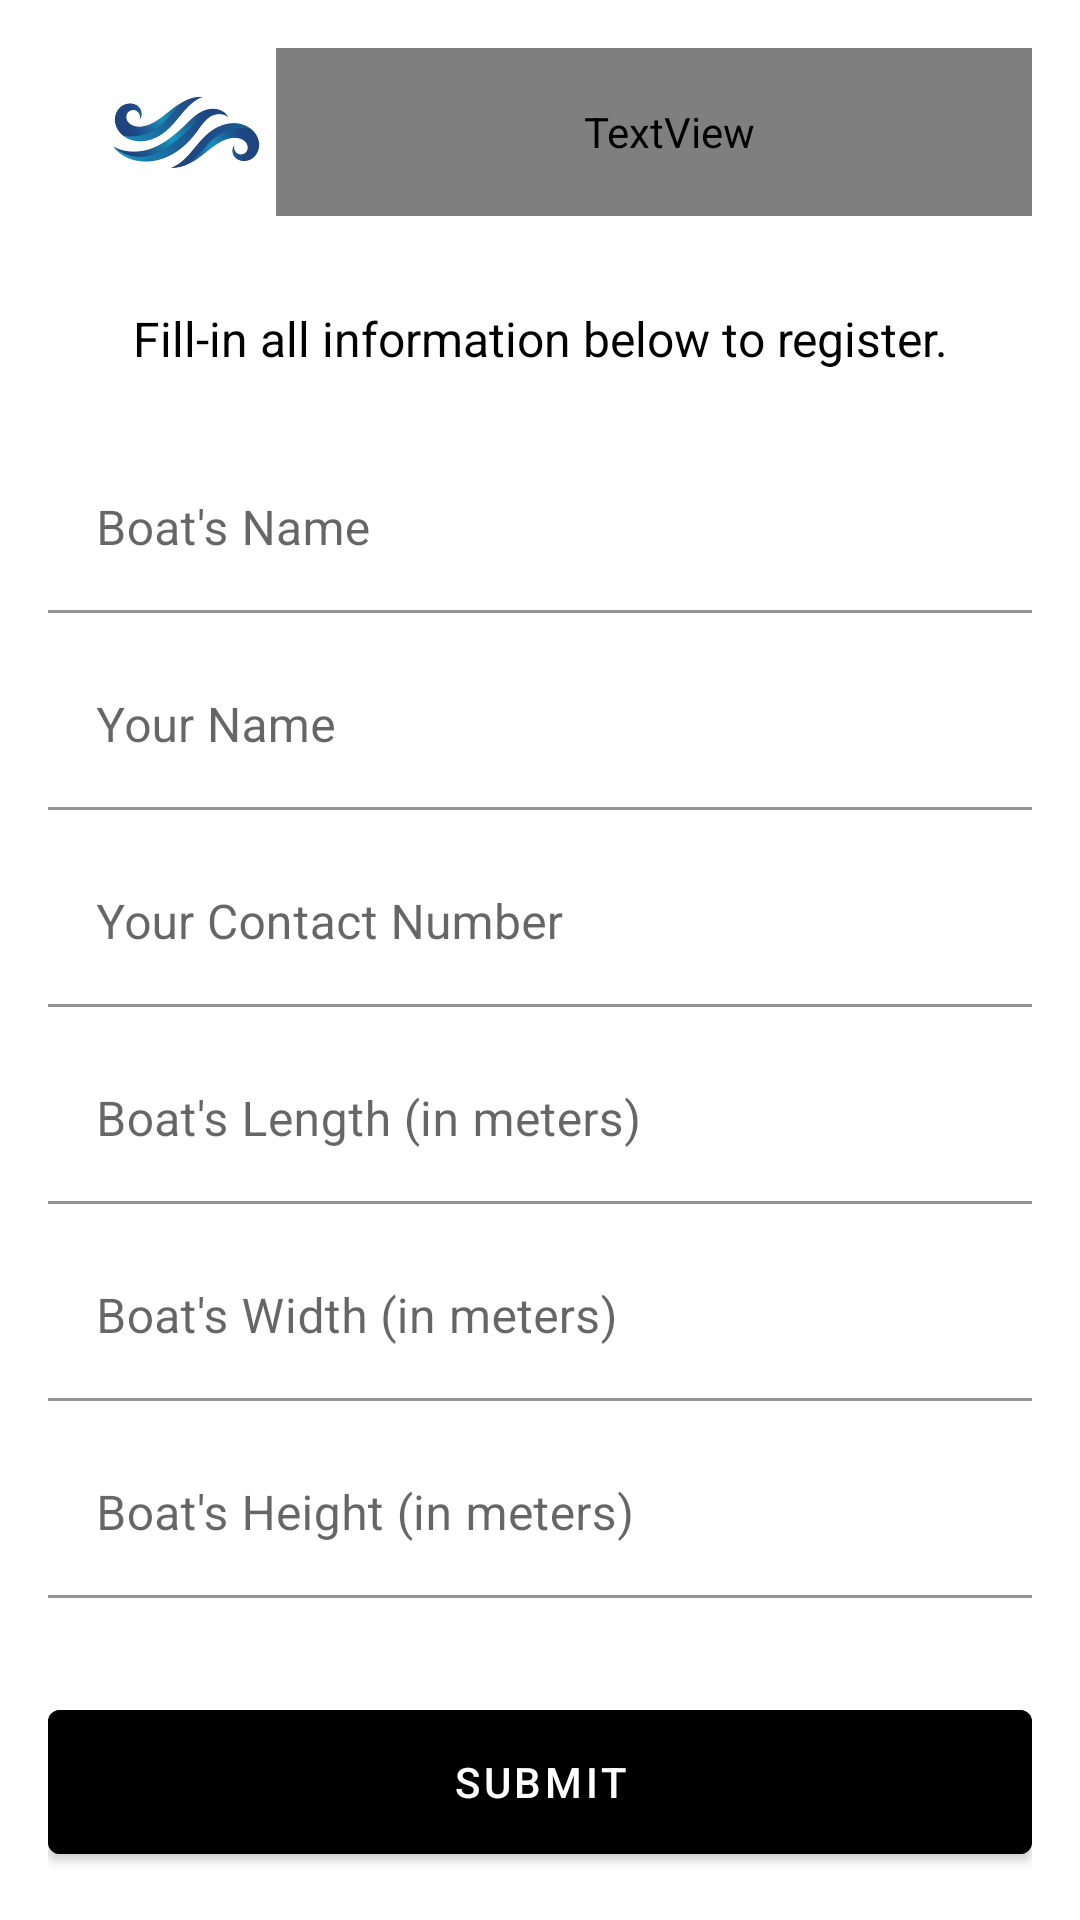

Icons on this 1080x1920 Android screen, each with the point to tap as [x,y]:
seawaves: [186,132]
